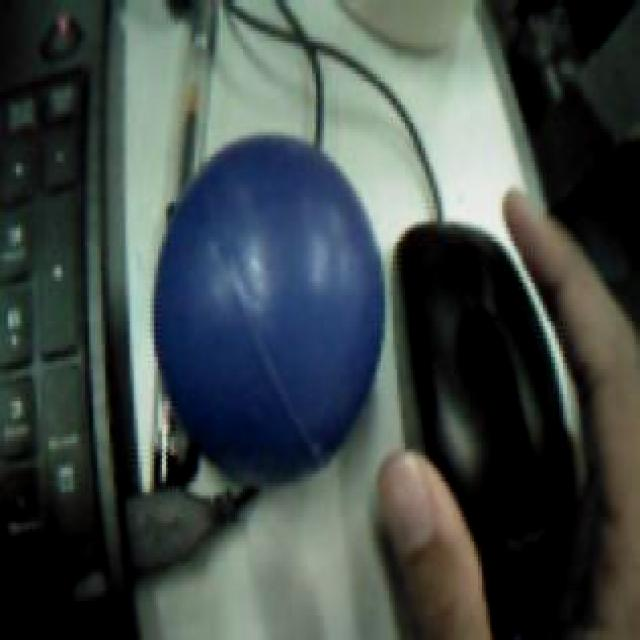BallPurple: (155, 135, 385, 488)
